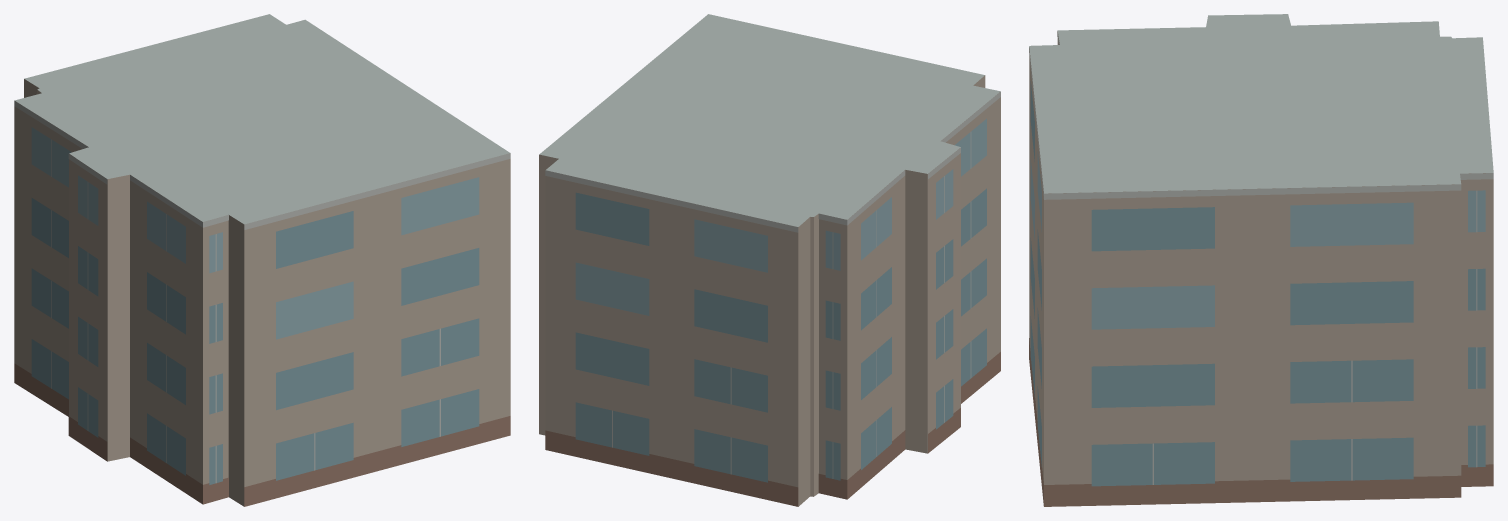
The model's file is survey-upis-32804139.glb.
The picture shows the model from 3 angles, left to right: view 1: azimuth 30°, elevation 25°; view 2: azimuth 150°, elevation 25°; view 3: azimuth 270°, elevation 25°; orthographic projection. The views are drawn at different scales.
Visible parts, largest first — view 1: survey-upis-32804139.tmp; view 2: survey-upis-32804139.tmp; view 3: survey-upis-32804139.tmp.
Boxes of the visible parts, x1,y1,x2,y2 form: survey-upis-32804139.tmp: (14, 14, 510, 506); survey-upis-32804139.tmp: (539, 14, 1000, 506); survey-upis-32804139.tmp: (1029, 14, 1493, 506).
Bounding box in the file's own units: 14.88 × 12.1 × 16.27.
